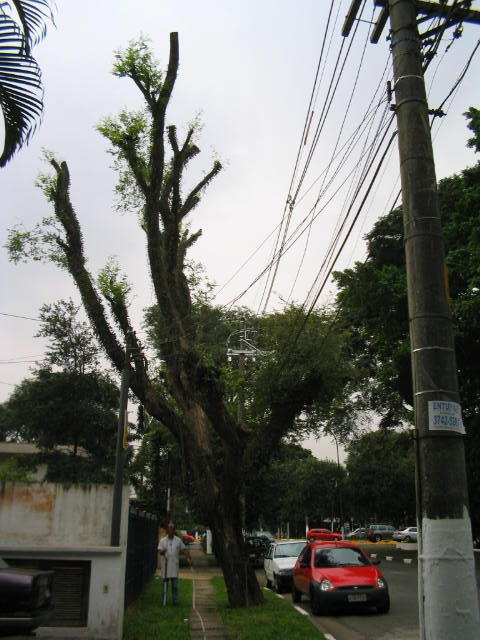stem: (192, 497, 274, 605)
stick: (151, 462, 178, 605)
tree: (11, 34, 359, 609)
